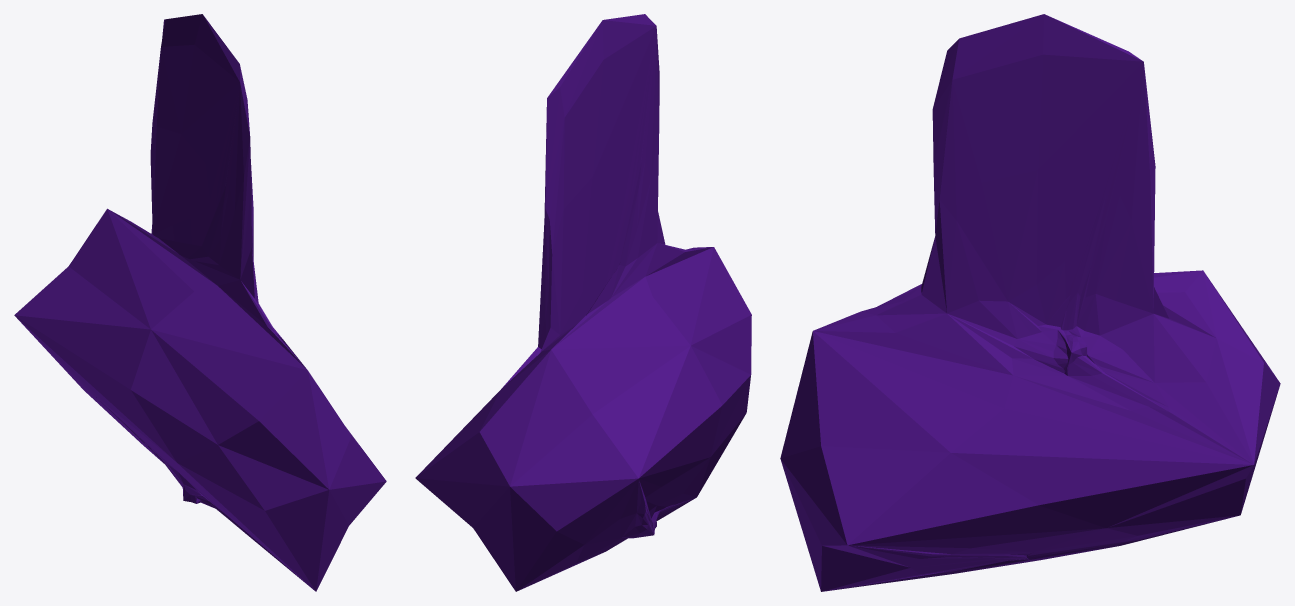
3 renders of one model, left to right at view 1: azimuth 30°, elevation 25°; view 2: azimuth 150°, elevation 25°; view 3: azimuth 270°, elevation 25°, orthographic. The views are drawn at different scales.
Visible parts, largest first — view 1: 402_Cube.1631; view 2: 402_Cube.1631; view 3: 402_Cube.1631.
Part boxes in pixels (left/top/right/bottom): 402_Cube.1631: left=14, top=14, right=386, bottom=591; 402_Cube.1631: left=415, top=14, right=751, bottom=591; 402_Cube.1631: left=780, top=14, right=1280, bottom=591.
Bounding box in the file's own units: 6.44 × 15.12 × 12.02.
